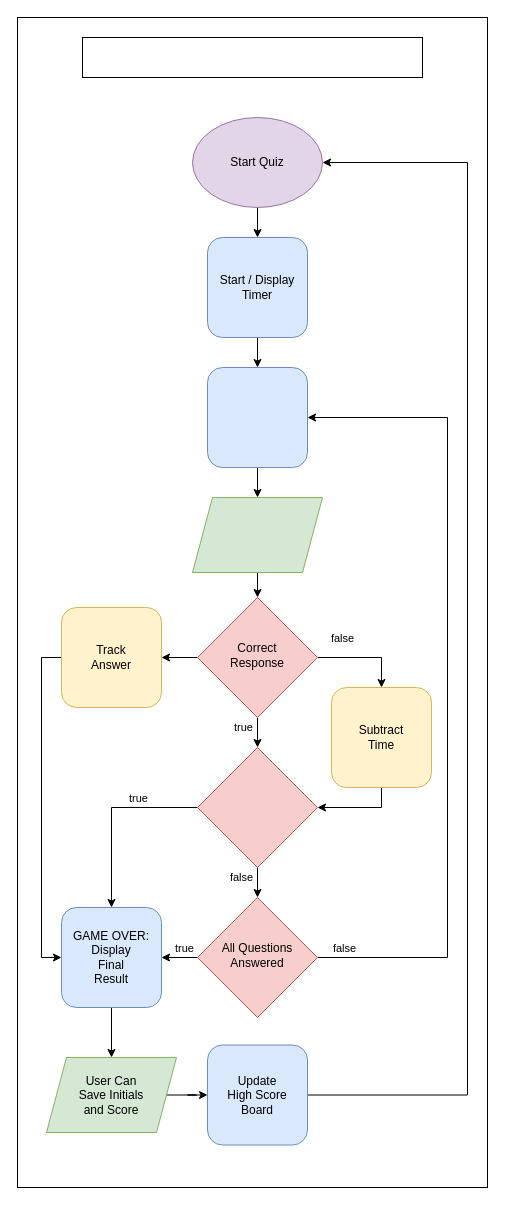
Image size: 505x1205. Some labels were removed from this diagram. Here are the shapes that lost their labels. From the top down, the box of each, then its label:
(82, 36, 422, 78): Code Quiz State Flow Diagram
(206, 366, 308, 468): Display Question
(192, 496, 322, 572): Answer Question
(196, 746, 318, 868): If Timer <= 0
